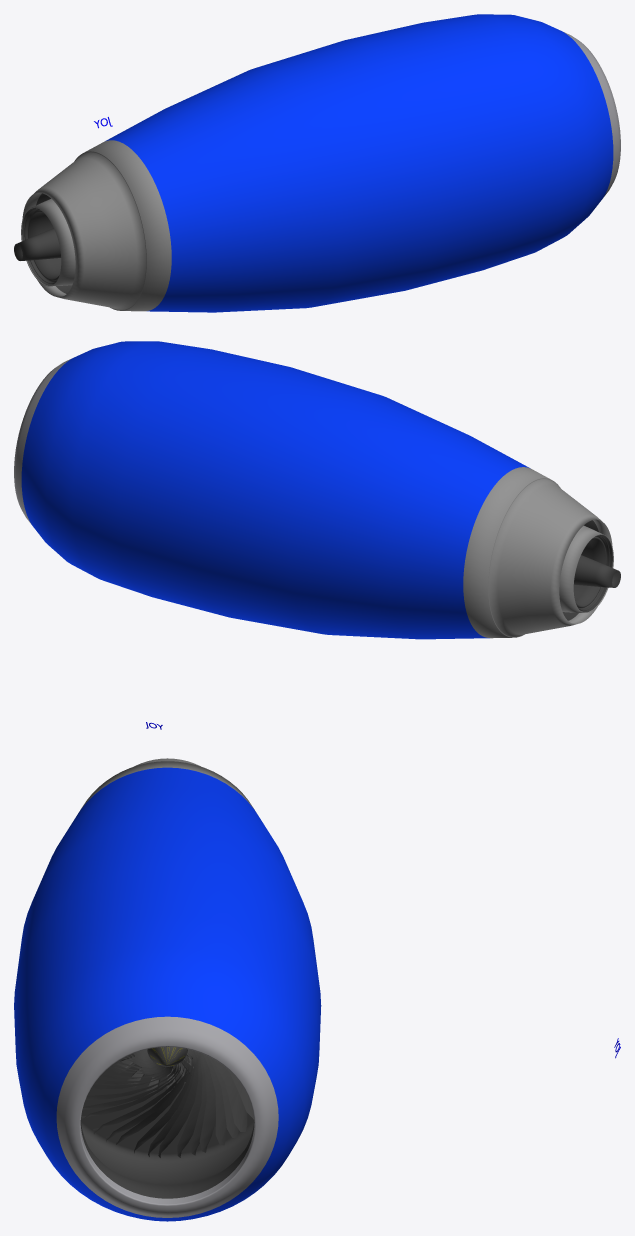
3 views of the same model, one above another, from view 1: azimuth 30°, elevation 25°; view 2: azimuth 150°, elevation 25°; view 3: azimuth 270°, elevation 25° (orthographic). The views are drawn at different scales.
Visible parts, largest first — view 1: Cylinder.002; view 2: Cylinder.002; view 3: Cylinder.002, Cone.
Part boxes in pixels (<box>): Cylinder.002: <box>14,14,620,312</box>; Cylinder.002: <box>14,341,620,639</box>; Cylinder.002: <box>14,758,321,1221</box>; Cone: <box>81,1047,254,1157</box>.
Size of what is drawn, in the model's own units: 6.87 by 2.72 by 5.38.
